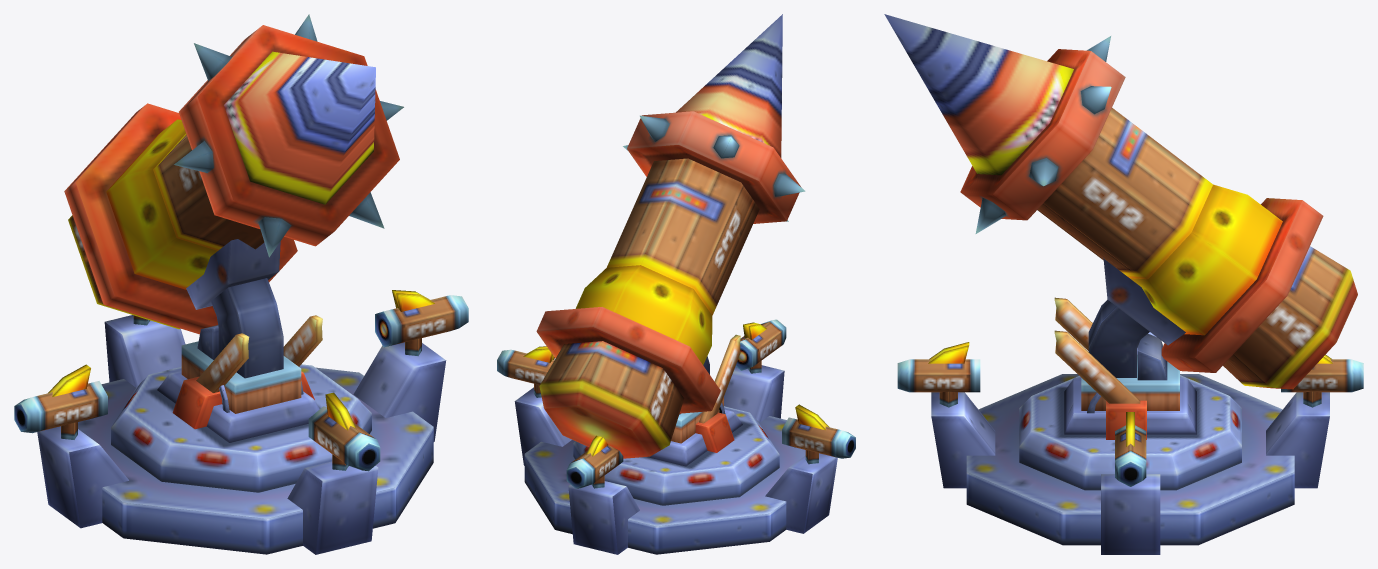
Rendered from pao04.FBX.
3 renders of one model, left to right at view 1: azimuth 30°, elevation 25°; view 2: azimuth 150°, elevation 25°; view 3: azimuth 270°, elevation 25°, orthographic. The views are drawn at different scales.
Parts seen in each view (by area): view 1: pao04_01_02, pao04, pao04_05; view 2: pao04_01_02, pao04, pao04_05; view 3: pao04_01_02, pao04, pao04_05.
Boxes of the visible parts, bbox=[...] form: pao04_01_02: bbox=[64, 14, 403, 492]; pao04: bbox=[14, 290, 468, 554]; pao04_05: bbox=[172, 315, 322, 429]; pao04_01_02: bbox=[536, 14, 805, 505]; pao04: bbox=[497, 319, 855, 554]; pao04_05: bbox=[695, 334, 740, 452]; pao04_01_02: bbox=[884, 14, 1357, 490]; pao04: bbox=[897, 332, 1363, 554]; pao04_05: bbox=[1054, 297, 1146, 439].
Bounding box in the file's own units: 336 × 367 × 345.
